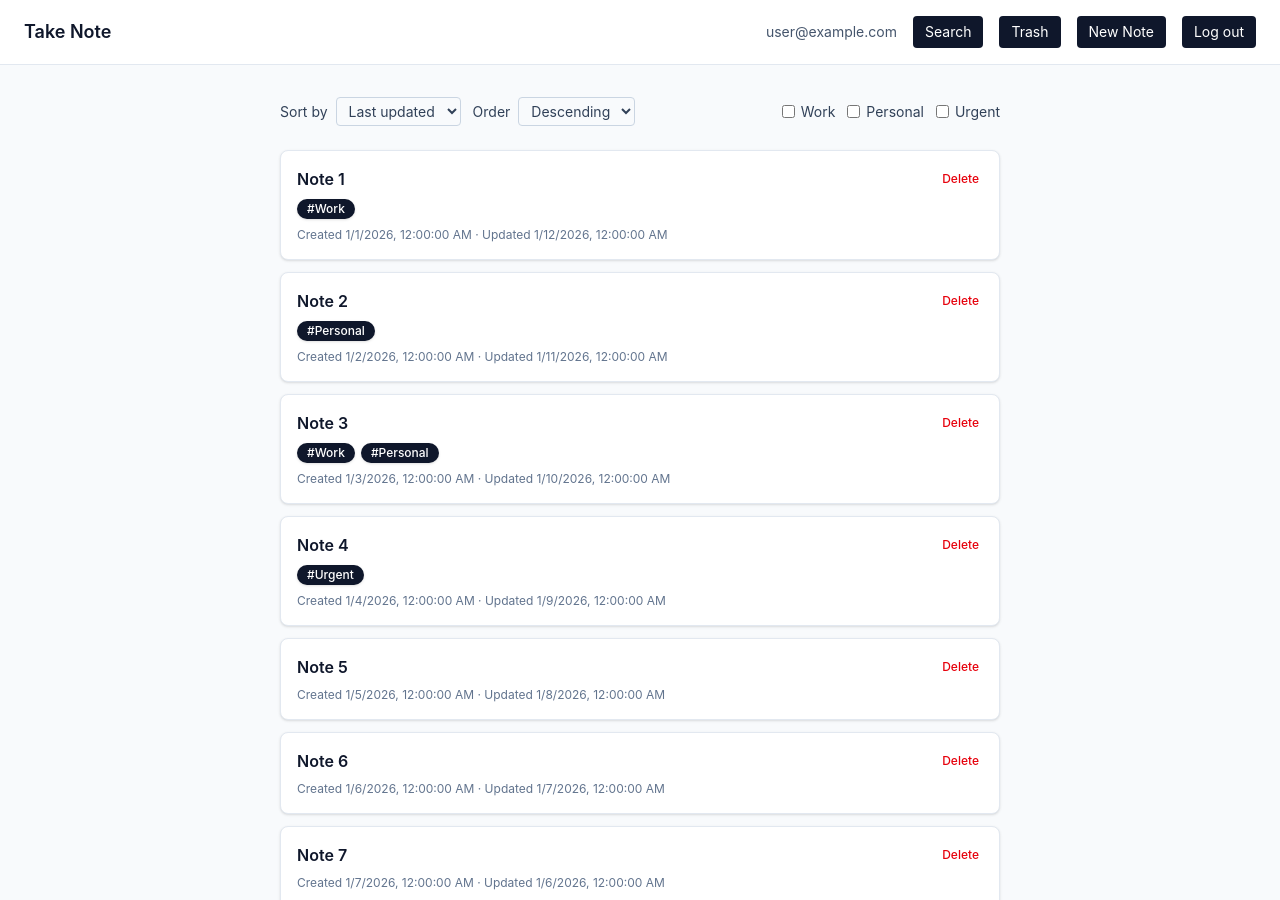
Test: NotesListPage › Applying multiple tag filters displays only notes matching all selected tags
expect the heading "Note 1" is shown: met, box [297,169,345,189]
Click the checkbox labelled "Work".
click(788, 112)  # box [782,105,795,118]
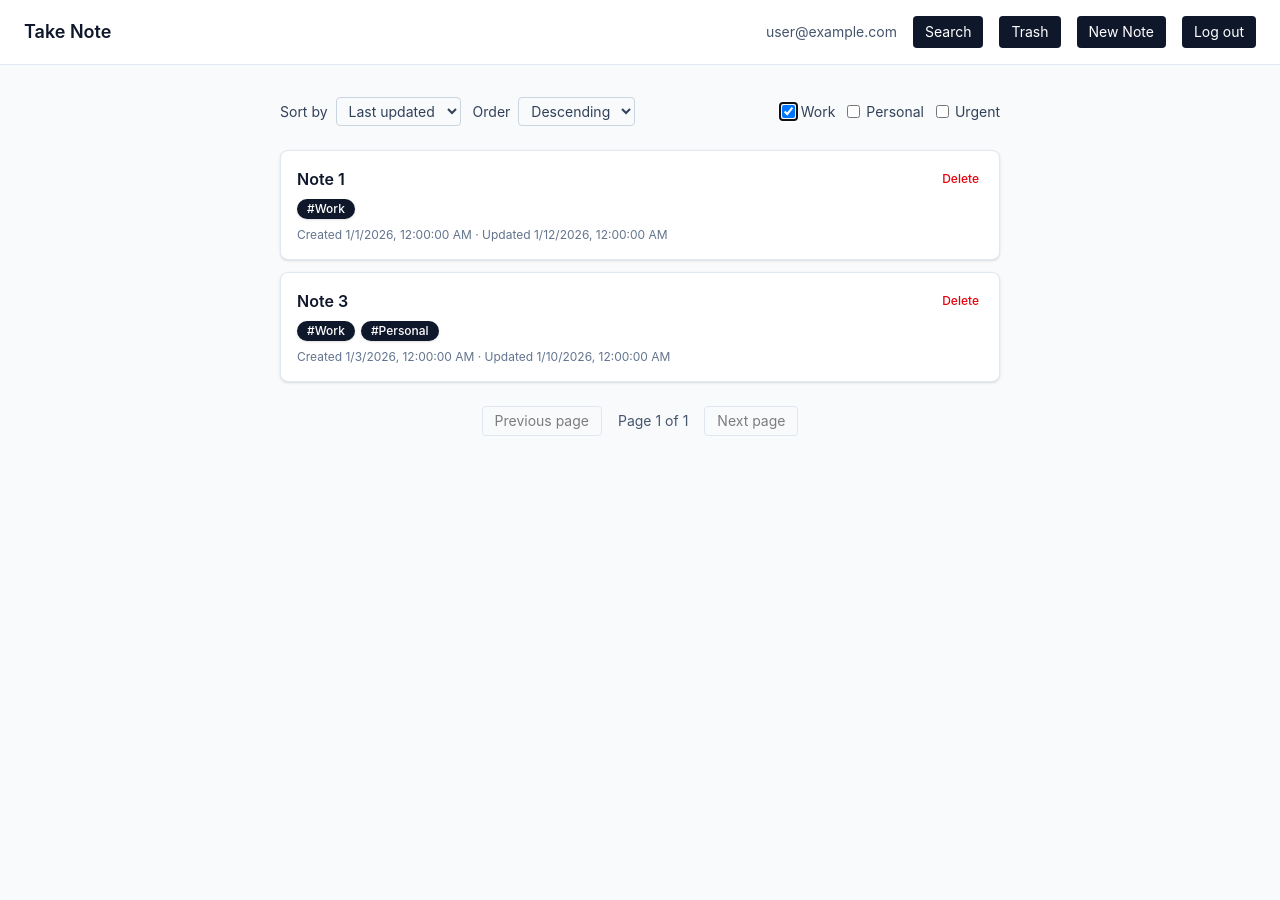
Click the checkbox labelled "Personal".
click(854, 112)  # box [847,105,860,118]
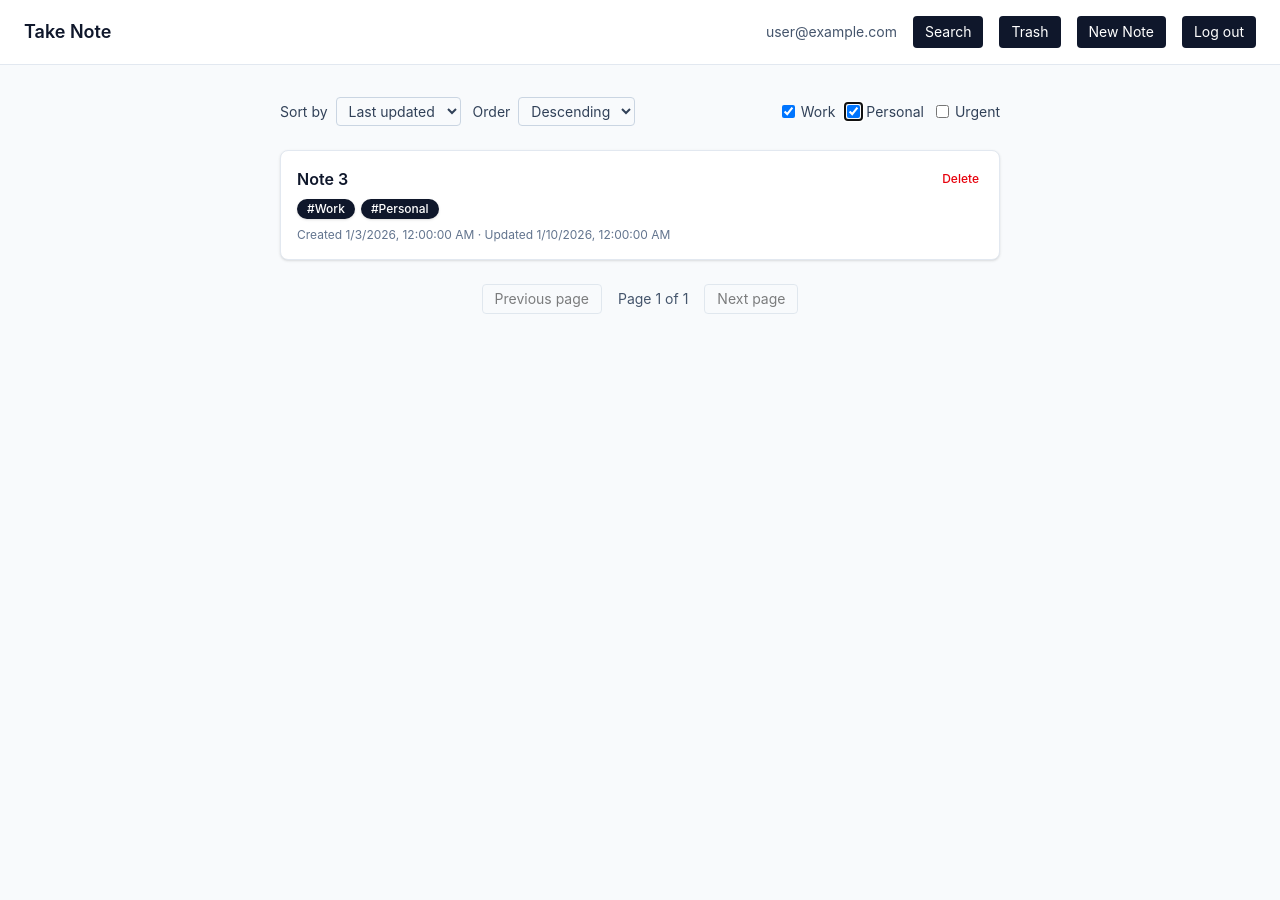
expect the heading "Note 3" is shown: met, box [297,169,348,189]
expect the link "Note 1" is gone: met
